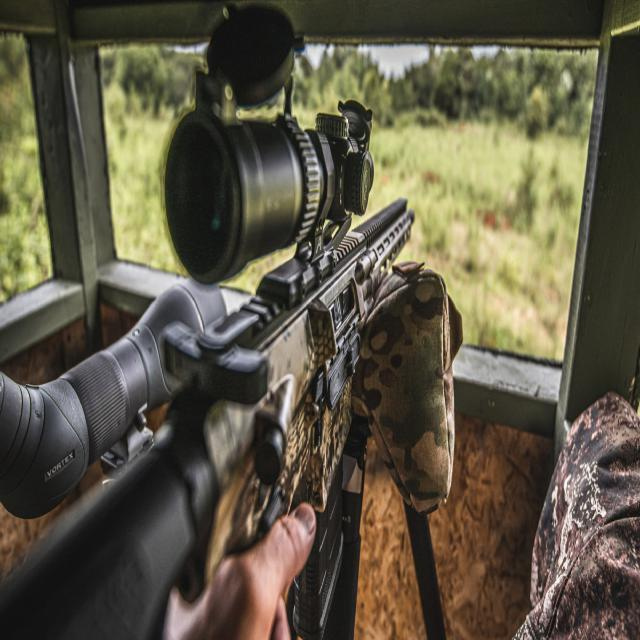Rifle: (0, 6, 414, 640)
